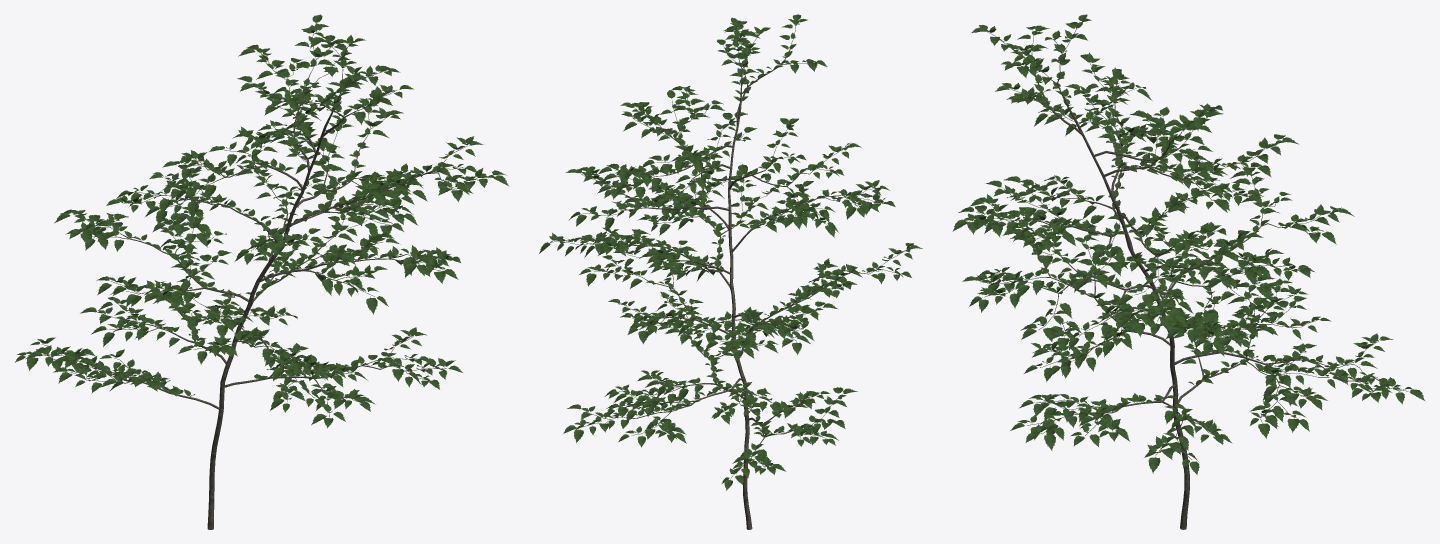
The model's file is garden_forest_bush_05.glb.
The picture shows the model from 3 angles, left to right: view 1: azimuth 30°, elevation 25°; view 2: azimuth 150°, elevation 25°; view 3: azimuth 270°, elevation 25°; orthographic projection. The views are drawn at different scales.
Parts seen in each view (by area): view 1: garden_forest_bush_05__lod0; view 2: garden_forest_bush_05__lod0; view 3: garden_forest_bush_05__lod0.
Part boxes in pixels (<box>): garden_forest_bush_05__lod0: <box>15,14,509,529</box>; garden_forest_bush_05__lod0: <box>539,14,922,529</box>; garden_forest_bush_05__lod0: <box>952,14,1424,529</box>.
Size of what is drawn, in the model's own units: 1.01 by 1.36 by 1.08.
3 materials, 3 textured.
